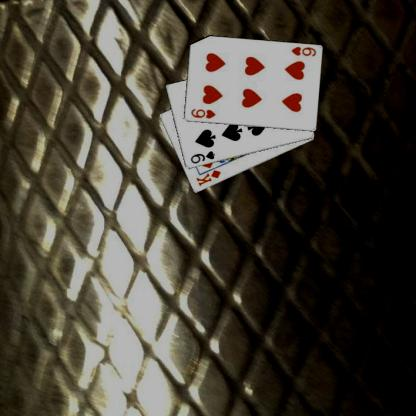6H: (188, 106, 216, 120), (288, 44, 316, 58)
9S: (188, 149, 216, 165)
KD: (194, 167, 222, 188)
